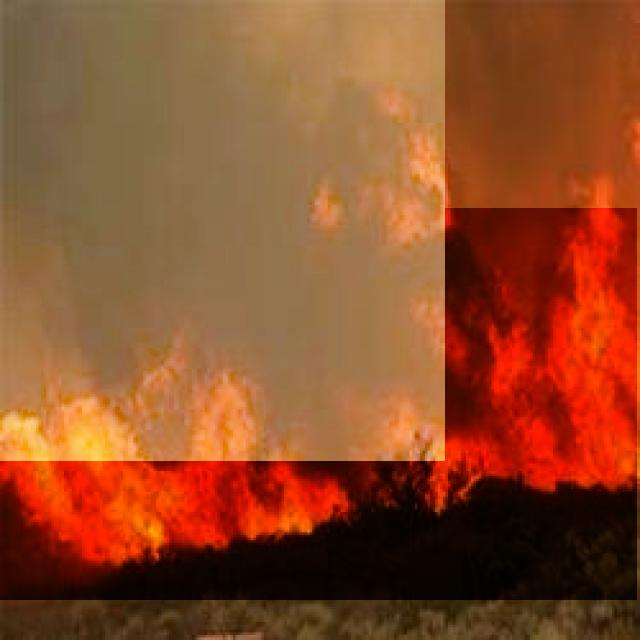Fire: (0, 208, 637, 600)
Smoke: (0, 0, 445, 461)
